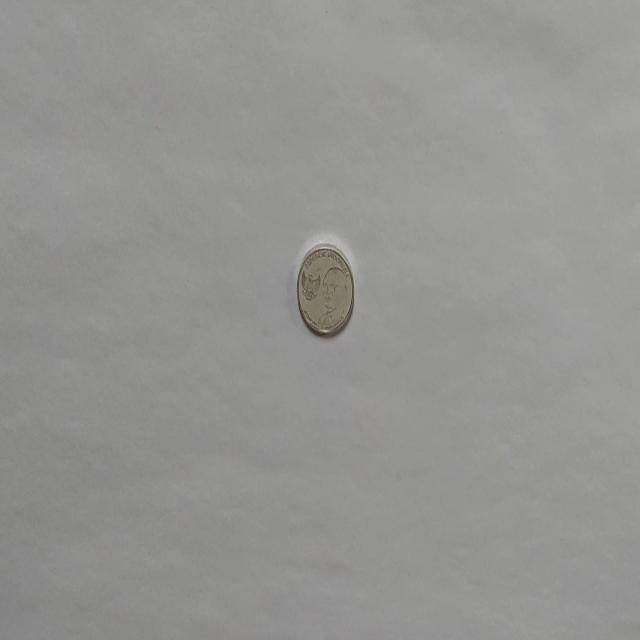lima ratus rupiah: (296, 243, 354, 337)
